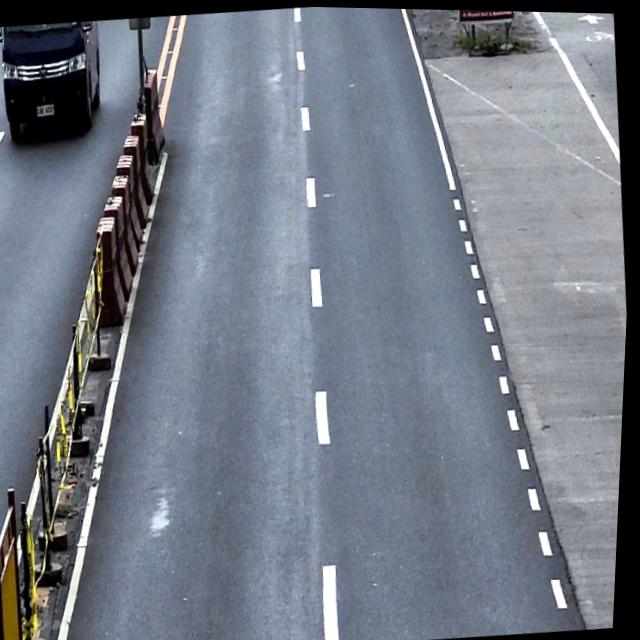Car: (0, 18, 107, 142)
License-Plate: (35, 100, 57, 118)
